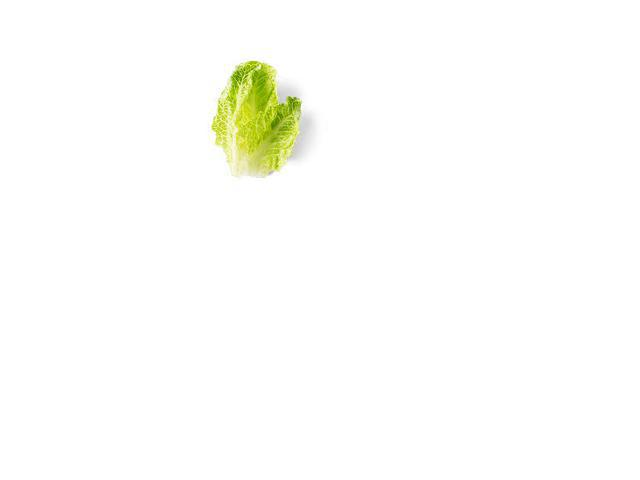lettuce: (171, 68, 325, 197)
